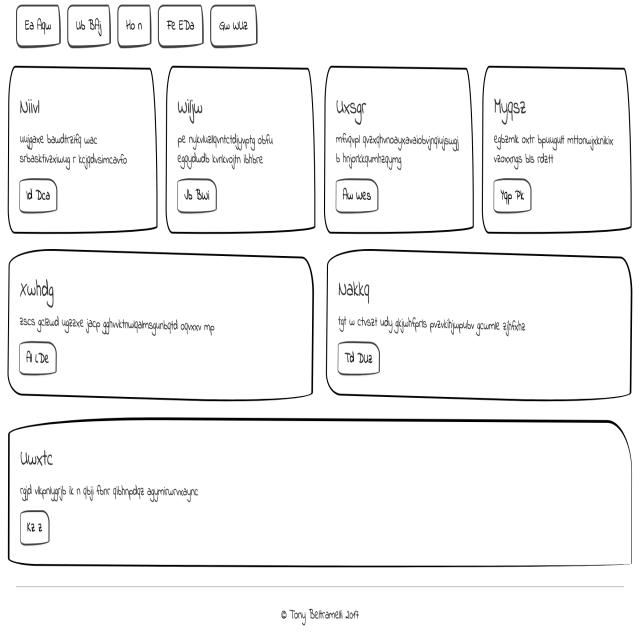Button: (332, 337, 387, 386), (14, 334, 59, 383), (489, 177, 539, 218), (334, 177, 380, 220), (17, 179, 66, 219), (175, 178, 223, 217), (21, 512, 53, 548)
Card: (3, 418, 635, 572), (3, 249, 317, 408), (323, 252, 637, 406), (163, 60, 320, 240), (8, 64, 159, 236), (325, 66, 474, 240), (482, 68, 633, 239)
Footer: (0, 583, 640, 640)
Heading 6: (17, 274, 66, 310), (335, 274, 382, 310), (490, 92, 537, 126), (334, 90, 374, 126), (176, 94, 215, 124), (18, 445, 56, 473), (16, 93, 46, 124)
Navigation Bar: (11, 1, 274, 57)
Paragraph: (335, 307, 531, 340), (15, 476, 203, 508), (337, 128, 462, 175), (18, 310, 226, 338), (492, 131, 615, 176), (16, 128, 129, 172), (175, 126, 273, 175)
